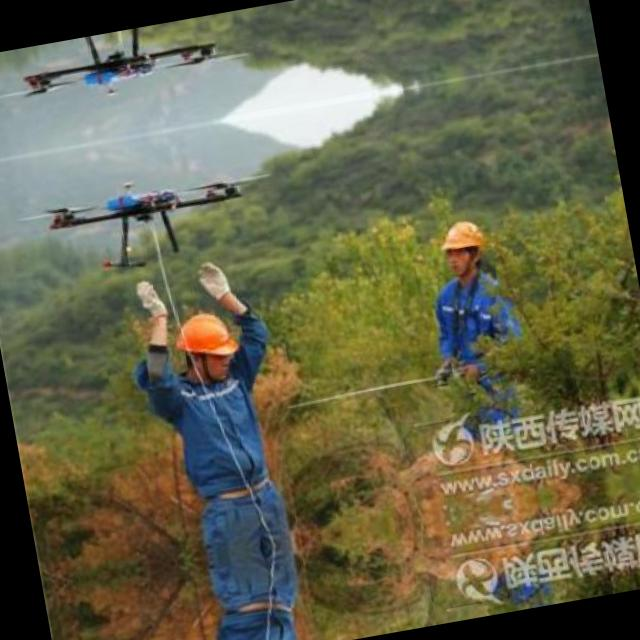helmet: (171, 306, 241, 386), (432, 210, 492, 282)
